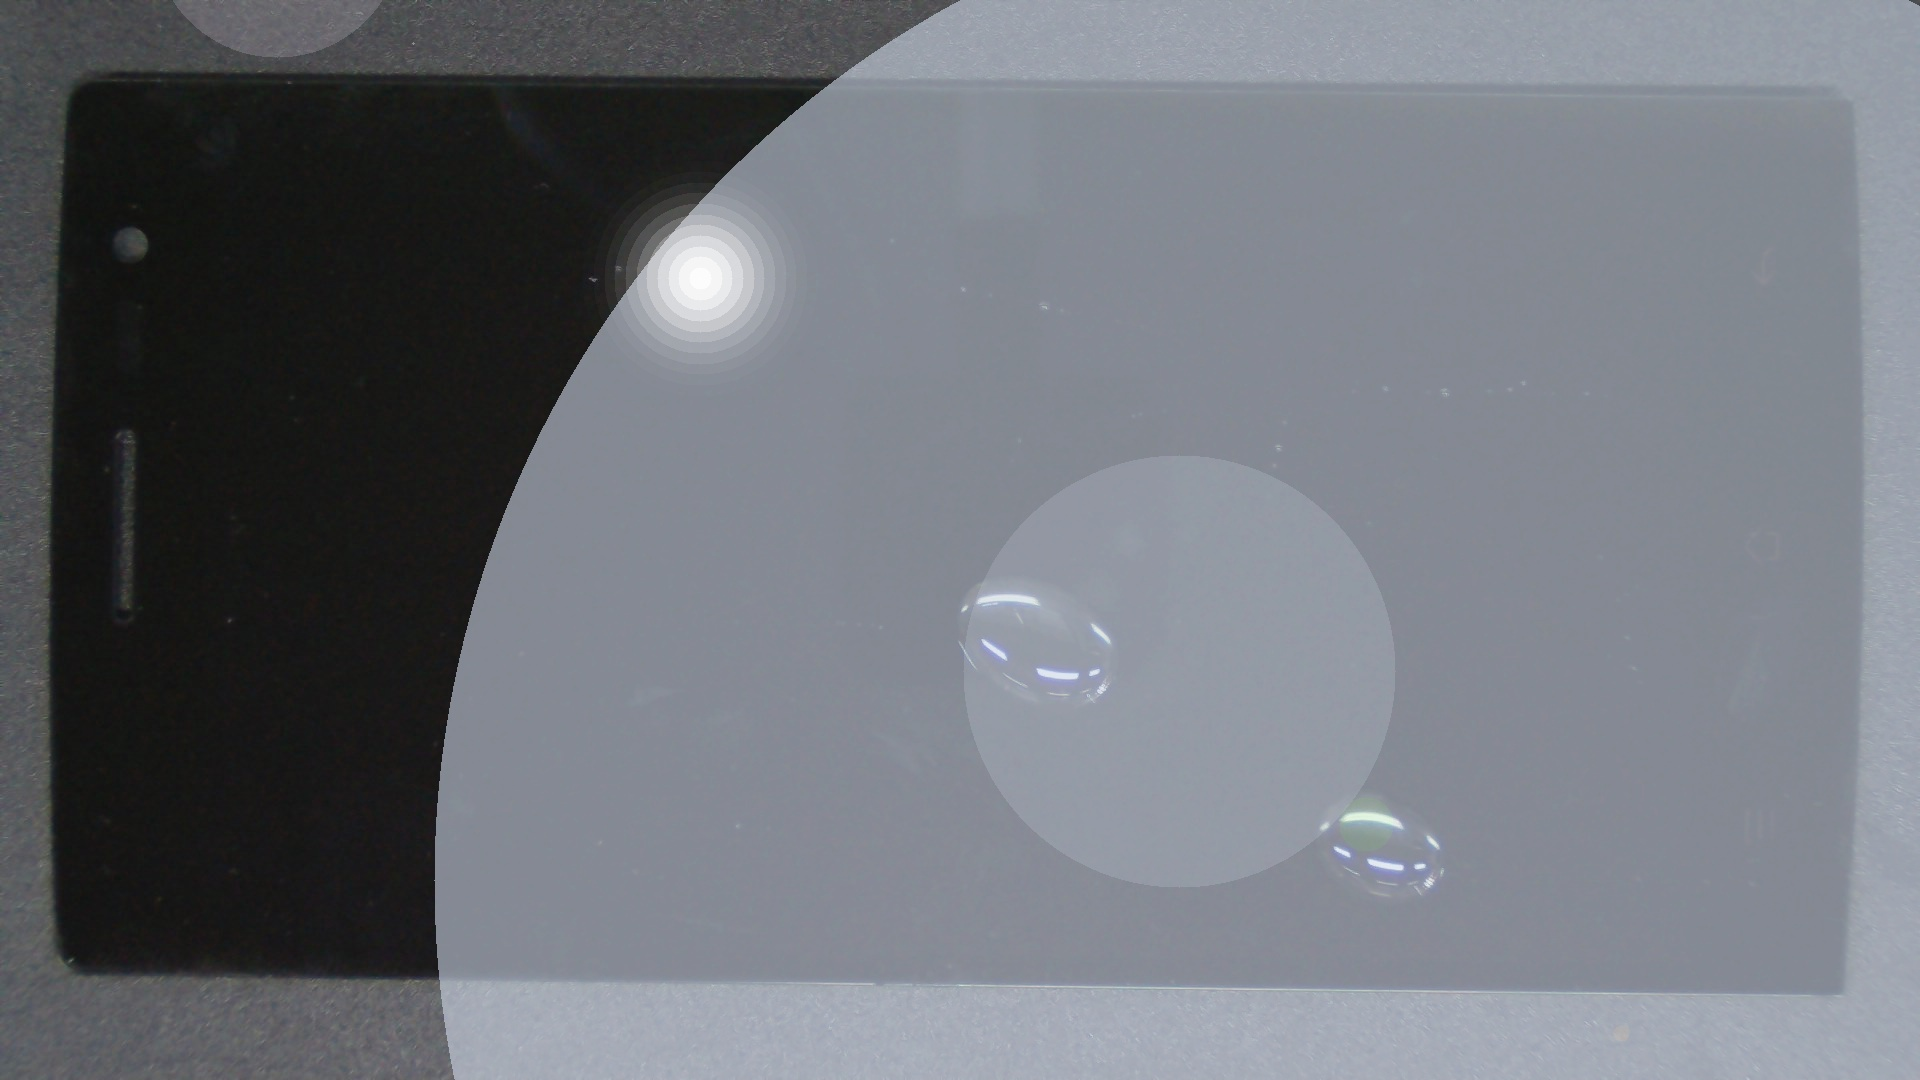oil: (682, 394, 1920, 1080), (500, 288, 1497, 867)
